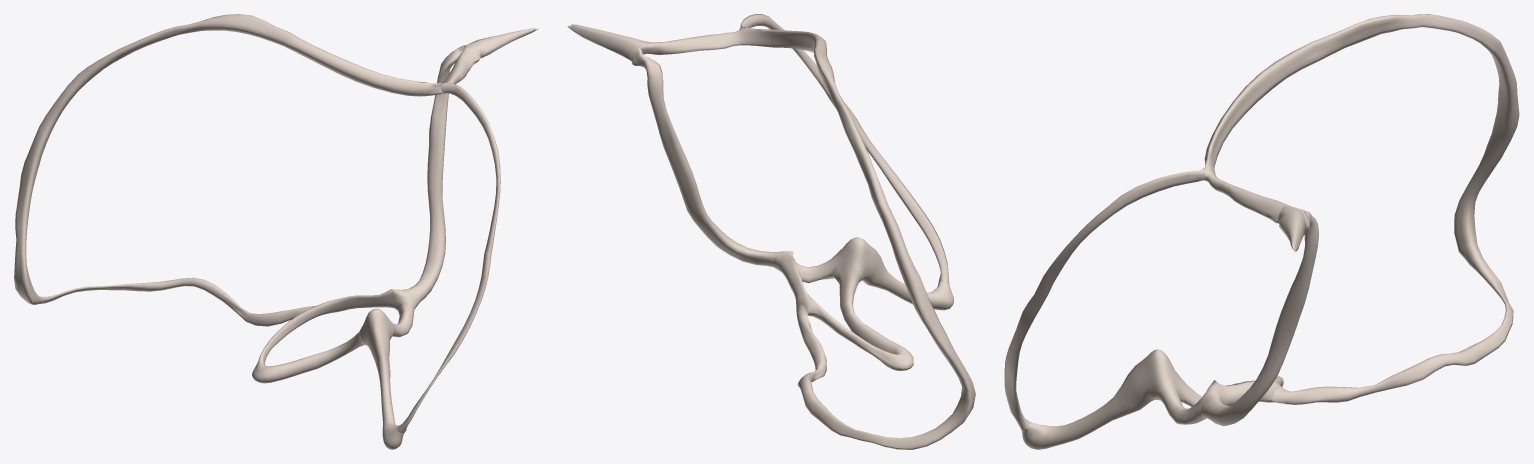
File: hra-female-abdomen-connective-01.glb
3 views of the same model, side by side, from view 1: azimuth 30°, elevation 25°; view 2: azimuth 150°, elevation 25°; view 3: azimuth 270°, elevation 25° (orthographic). The views are drawn at different scales.
Visible parts, largest first — view 1: VH_F_coronary_ligament_of_liver, VH_F_hepataduodenal_ligament, VH_F_ligamentum_venosum, VH_F_falciform_ligament, VH_F_round_ligament_of_liver, VH_F_triangular_ligament_of_liver; view 2: VH_F_coronary_ligament_of_liver, VH_F_hepataduodenal_ligament, VH_F_ligamentum_venosum, VH_F_falciform_ligament, VH_F_round_ligament_of_liver, VH_F_triangular_ligament_of_liver; view 3: VH_F_coronary_ligament_of_liver, VH_F_ligamentum_venosum, VH_F_round_ligament_of_liver, VH_F_falciform_ligament, VH_F_hepataduodenal_ligament, VH_F_triangular_ligament_of_liver.
Part boxes in pixels (x1,y1,x2,y2): VH_F_coronary_ligament_of_liver: [14, 14, 480, 326]; VH_F_hepataduodenal_ligament: [252, 289, 415, 383]; VH_F_ligamentum_venosum: [406, 45, 464, 306]; VH_F_falciform_ligament: [397, 82, 500, 433]; VH_F_round_ligament_of_liver: [360, 308, 403, 449]; VH_F_triangular_ligament_of_liver: [463, 28, 538, 57]; VH_F_coronary_ligament_of_liver: [652, 27, 975, 449]; VH_F_hepataduodenal_ligament: [773, 251, 913, 370]; VH_F_ligamentum_venosum: [632, 48, 777, 267]; VH_F_falciform_ligament: [740, 14, 949, 283]; VH_F_round_ligament_of_liver: [836, 237, 953, 310]; VH_F_triangular_ligament_of_liver: [567, 24, 658, 62]; VH_F_coronary_ligament_of_liver: [1204, 14, 1519, 404]; VH_F_ligamentum_venosum: [1200, 209, 1318, 426]; VH_F_round_ligament_of_liver: [1021, 349, 1176, 449]; VH_F_falciform_ligament: [1004, 168, 1205, 429]; VH_F_hepataduodenal_ligament: [1154, 373, 1283, 424]; VH_F_triangular_ligament_of_liver: [1275, 204, 1308, 251].
Size of the model in its own units: 0.1899 by 0.1361 by 0.1512.
